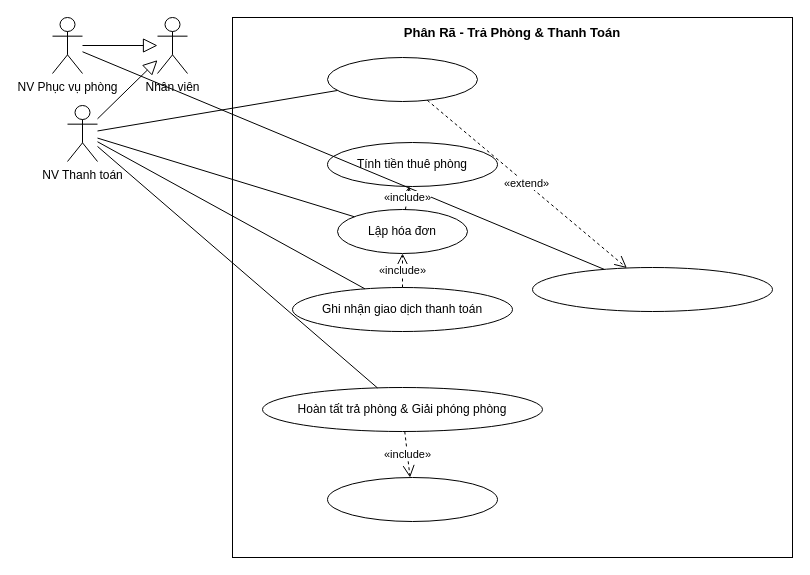
The diagram is 810 pixels wide and 575 high, and some of its shapes have lost their labels. The centre of each missing label's shape, as x and y in pixels:
Kiểm tra tiện nghi khi trả phòng: (x=652, y=289)
Lập phiếu đền bù: (x=402, y=79)
Tính tiền dịch vụ: (x=412, y=499)
